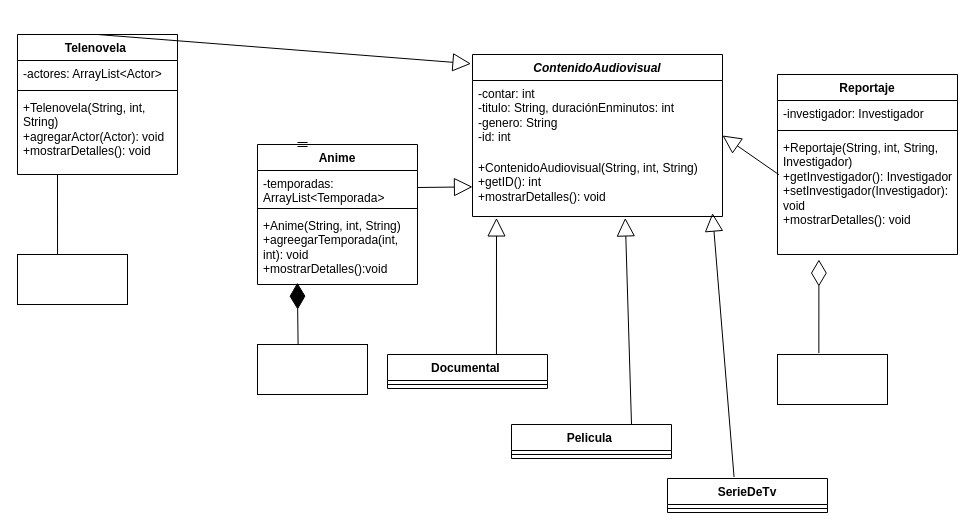
This 975x530 diagram has some shape labels left out. The shapes that lost their labels are listed below. From the top down, each one's box as (x1, y1, x2, y2) in pixels, then its label:
(16, 254, 128, 304): Actor
(256, 344, 368, 394): Temporada
(776, 354, 888, 404): Investigador
